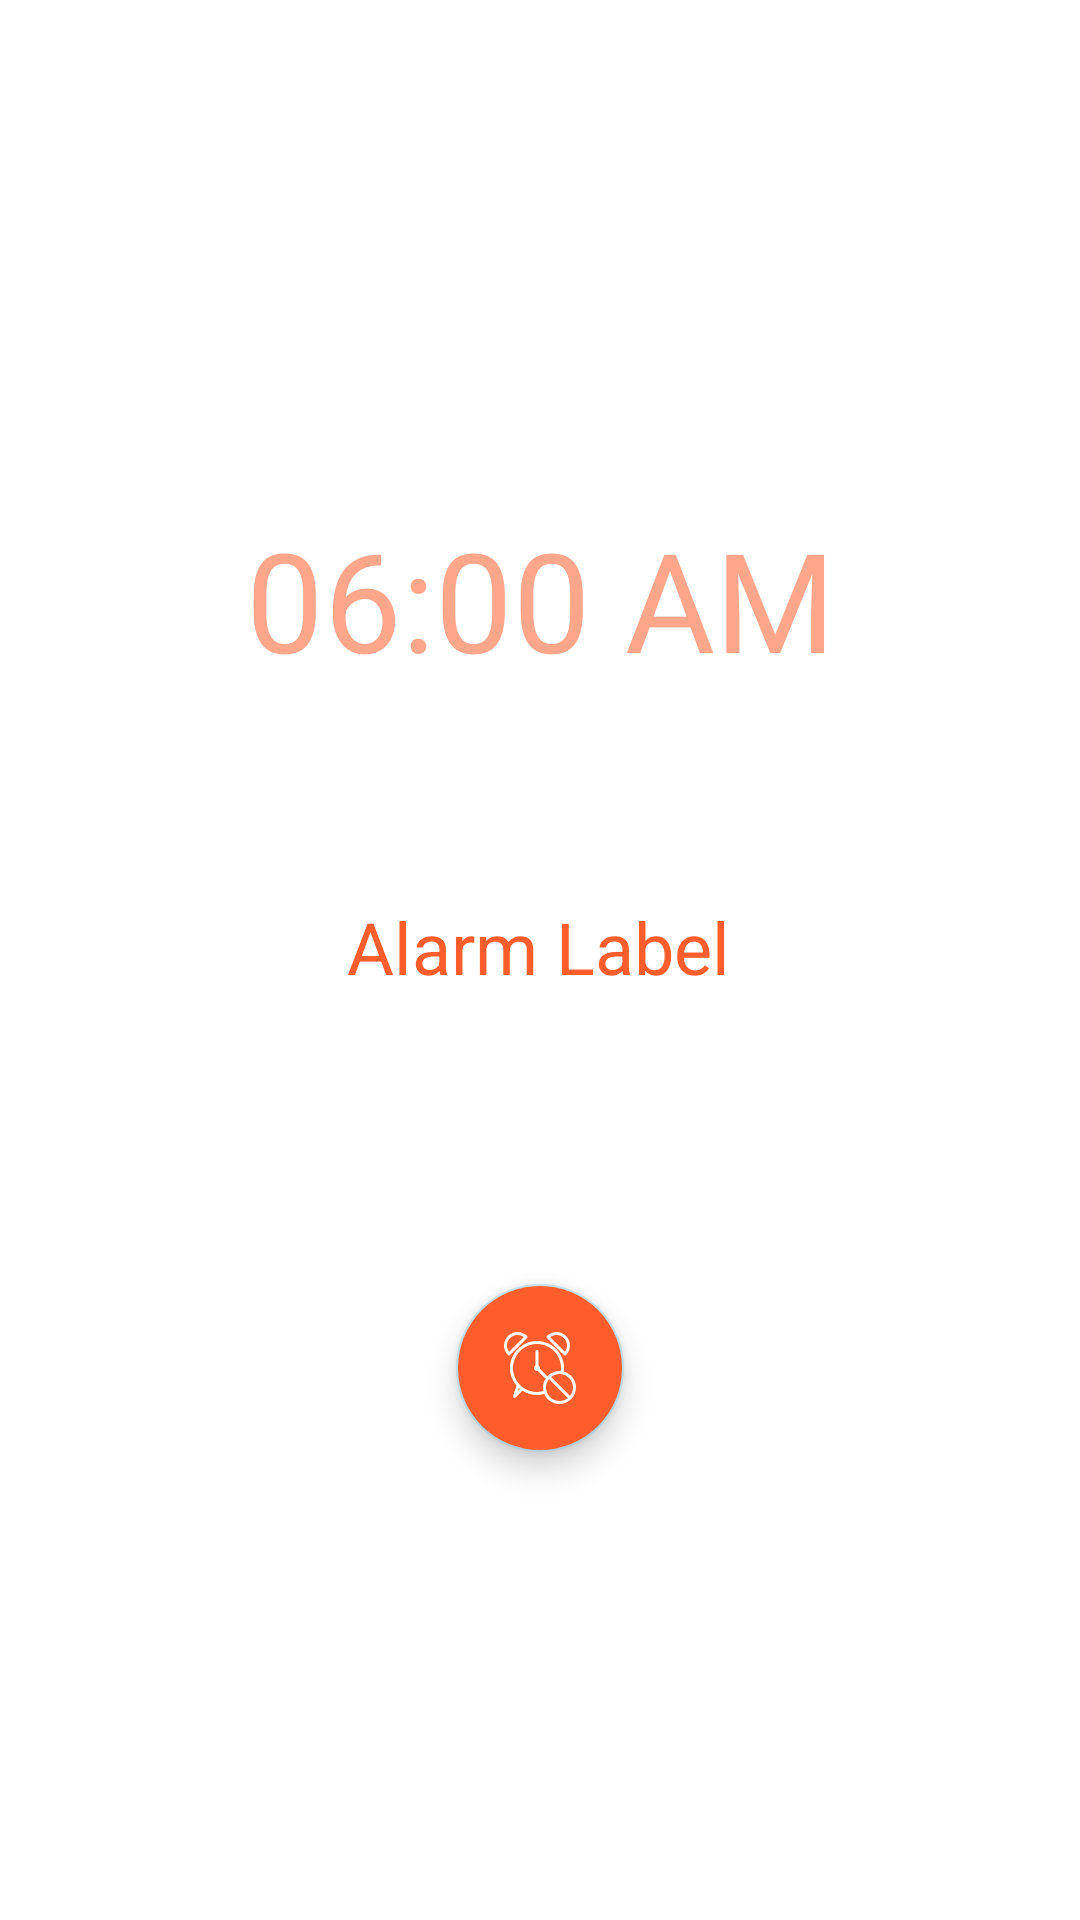

Where to tap for icons on this 1080 × 1920 app screen, as [x,y]:
disable alarm: [540,1368]
